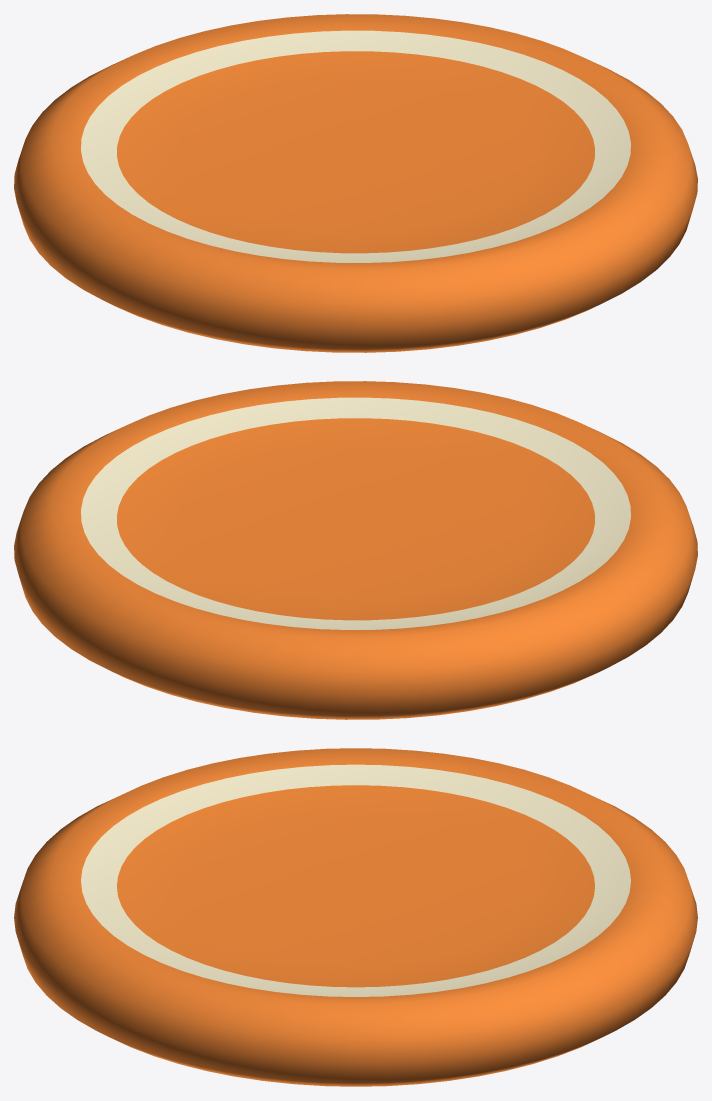
File: frisbee.glb
The picture shows the model from 3 angles, top to bottom: view 1: azimuth 30°, elevation 25°; view 2: azimuth 150°, elevation 25°; view 3: azimuth 270°, elevation 25°; orthographic projection.
Visible parts, largest first — view 1: Closed profiled flying disc; view 2: Closed profiled flying disc; view 3: Closed profiled flying disc.
Part boxes in pixels (x1,y1,x2,y2): Closed profiled flying disc: [14, 14, 697, 352]; Closed profiled flying disc: [14, 381, 697, 719]; Closed profiled flying disc: [14, 748, 697, 1086].
Size of the model in its own units: 0.286 by 0.035 by 0.286.
